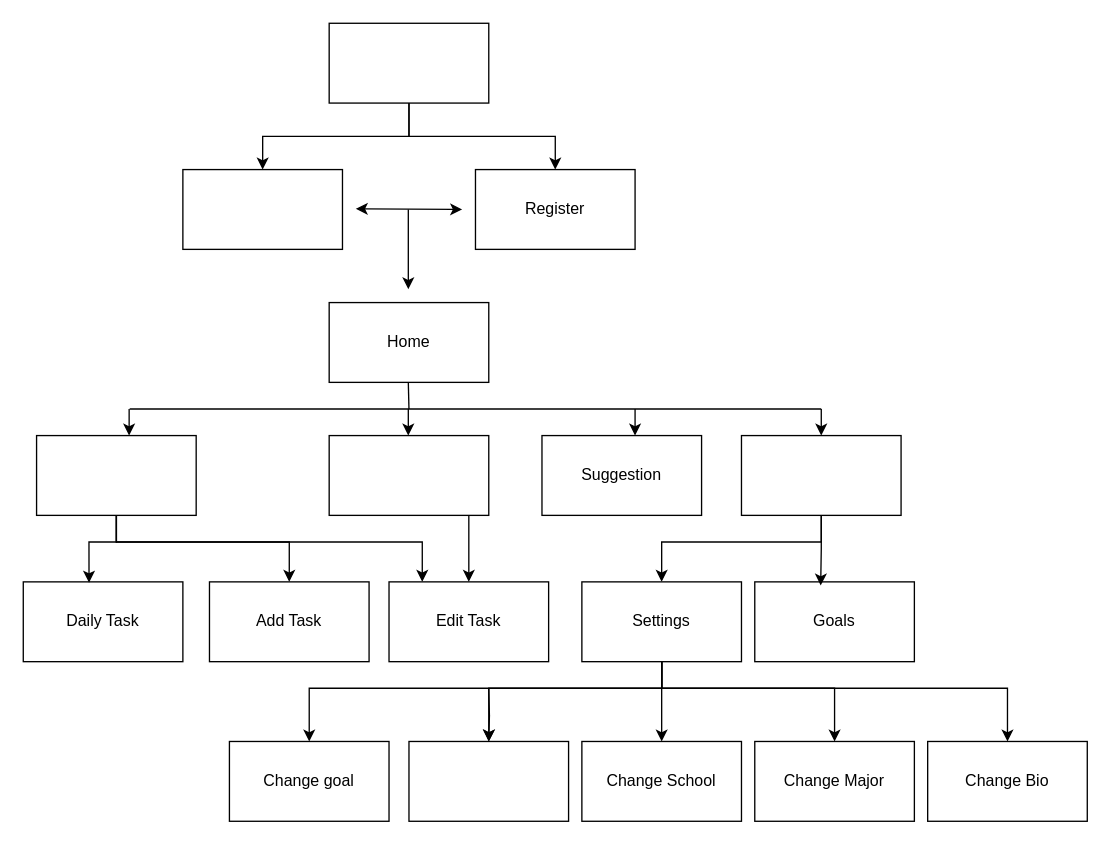
The diagram is 1111 pixels wide and 845 high, and some of its shapes have lost their labels. Each missing label, with the centre of its shape:
"App Open" belongs at (x=408, y=62).
"Calendar" belongs at (x=115, y=474).
"Change Time-Zone" belongs at (x=488, y=780).
"Log In" belongs at (x=262, y=208).
"Task List" belongs at (x=408, y=474).
"User Profile" belongs at (x=820, y=474).
